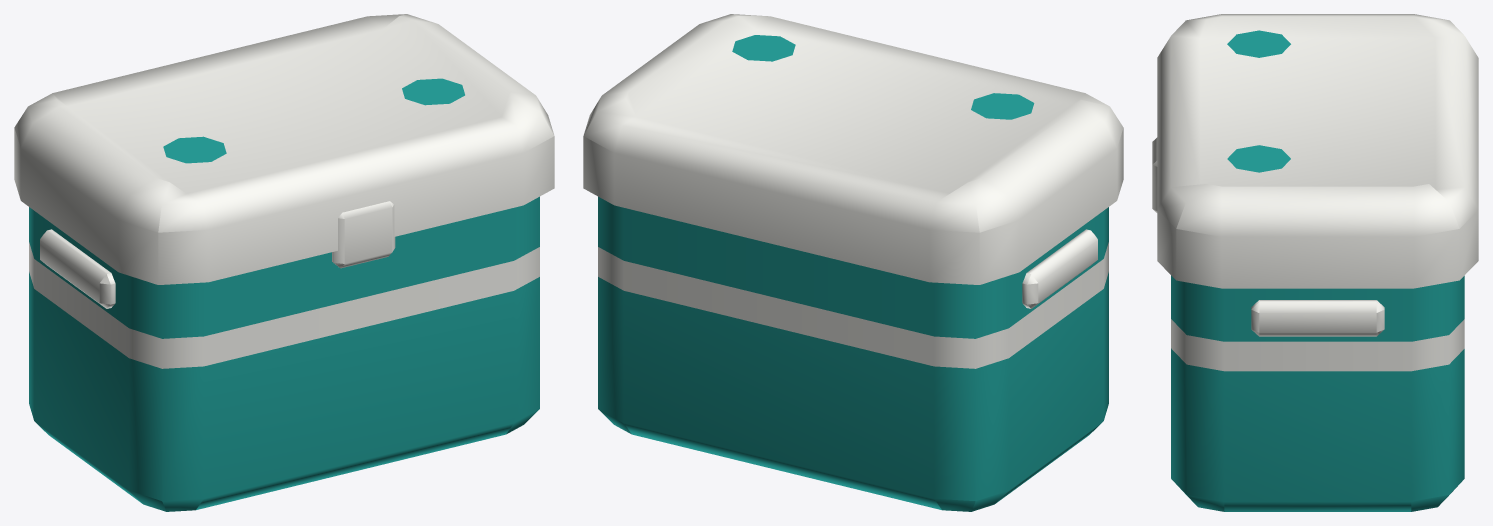
File: Nevera.fbx
3 views of the same model, side by side, from view 1: azimuth 30°, elevation 25°; view 2: azimuth 150°, elevation 25°; view 3: azimuth 270°, elevation 25° (orthographic).
Parts seen in each view (by area): view 1: Nevera; view 2: Nevera; view 3: Nevera.
Part boxes in pixels (x1=…): Nevera: x1=14, y1=14, x2=554, y2=511; Nevera: x1=583, y1=14, x2=1123, y2=511; Nevera: x1=1152, y1=14, x2=1478, y2=511.
Size of the model in its own units: 1.8 by 1.3 by 1.2.
Materials: 1 (1 with a texture image).
